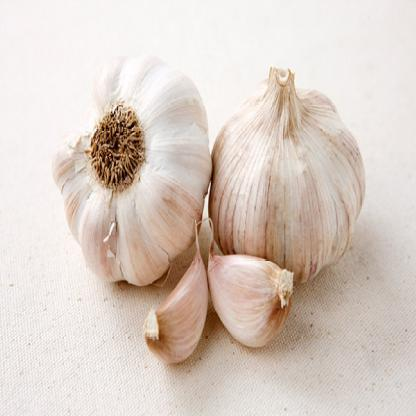garlic: (52, 61, 208, 272), (217, 80, 367, 282), (207, 231, 292, 350), (145, 246, 207, 368)
